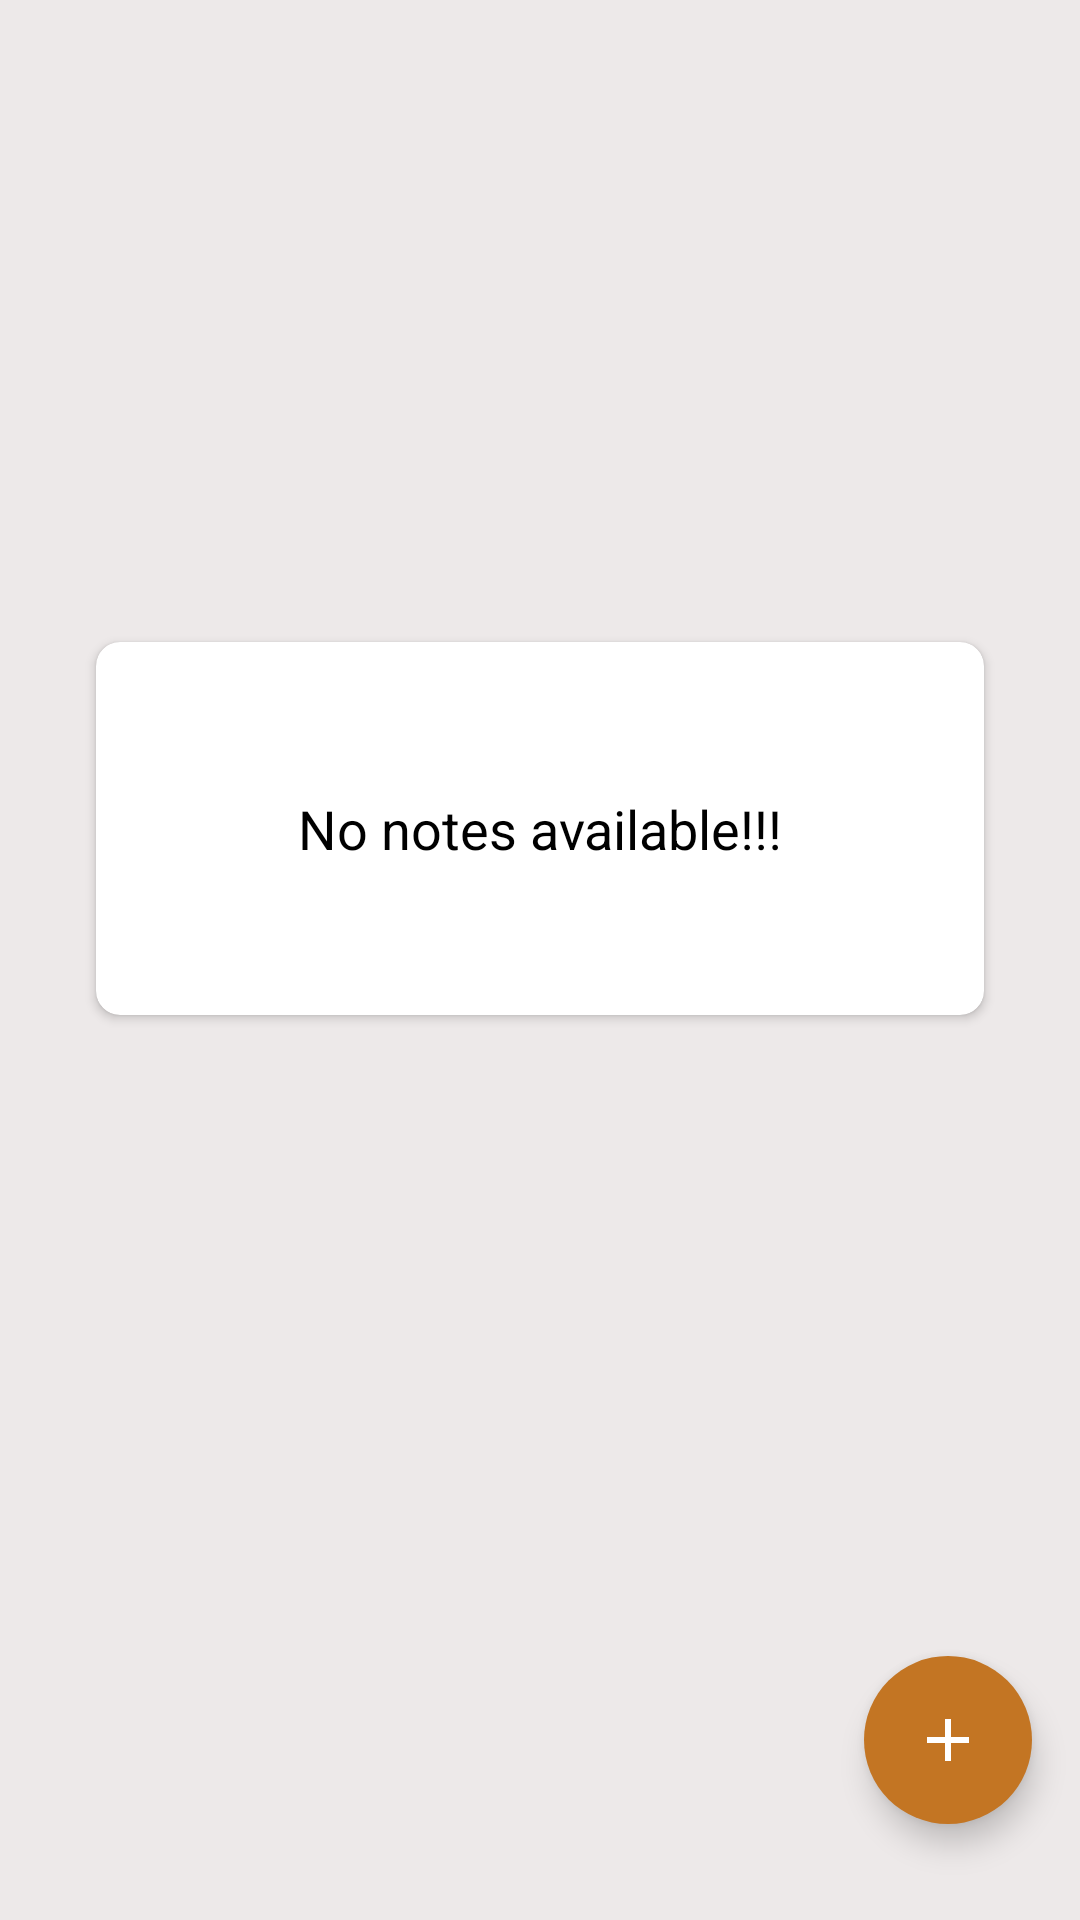

Locate icon controls on the screen. Image size 1080 × 1920, boxes as (x1, y1, x2, y2).
add: (864, 1656, 1032, 1824)
